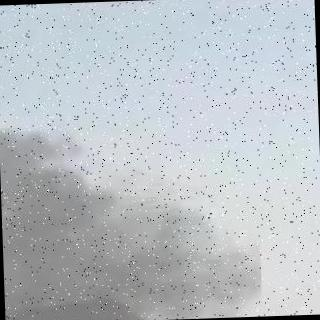smoke: (0, 114, 296, 320)
